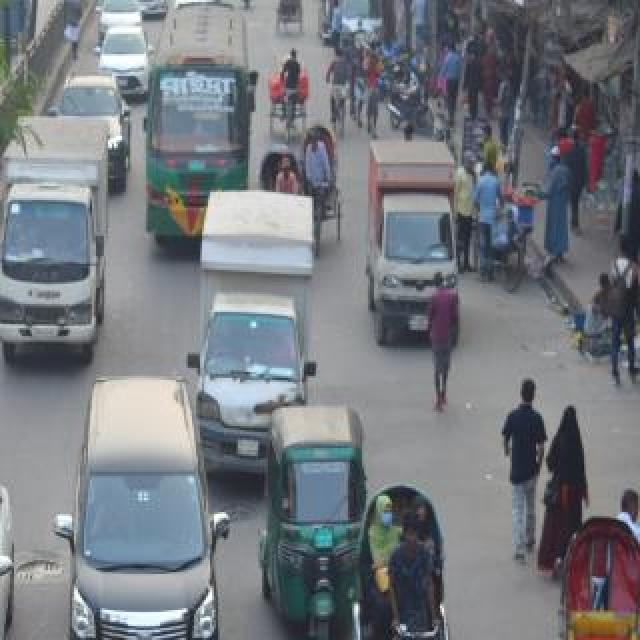bus: (136, 0, 266, 252)
car: (46, 356, 242, 640), (55, 47, 141, 199), (0, 436, 48, 640), (87, 15, 151, 105), (334, 0, 398, 66), (307, 0, 347, 70), (80, 0, 146, 36), (136, 0, 172, 30)
motorbike: (359, 40, 469, 126), (406, 81, 470, 161), (341, 34, 419, 90)
truck: (0, 82, 150, 394)
van: (174, 141, 336, 493), (360, 102, 502, 376), (0, 0, 40, 74)
